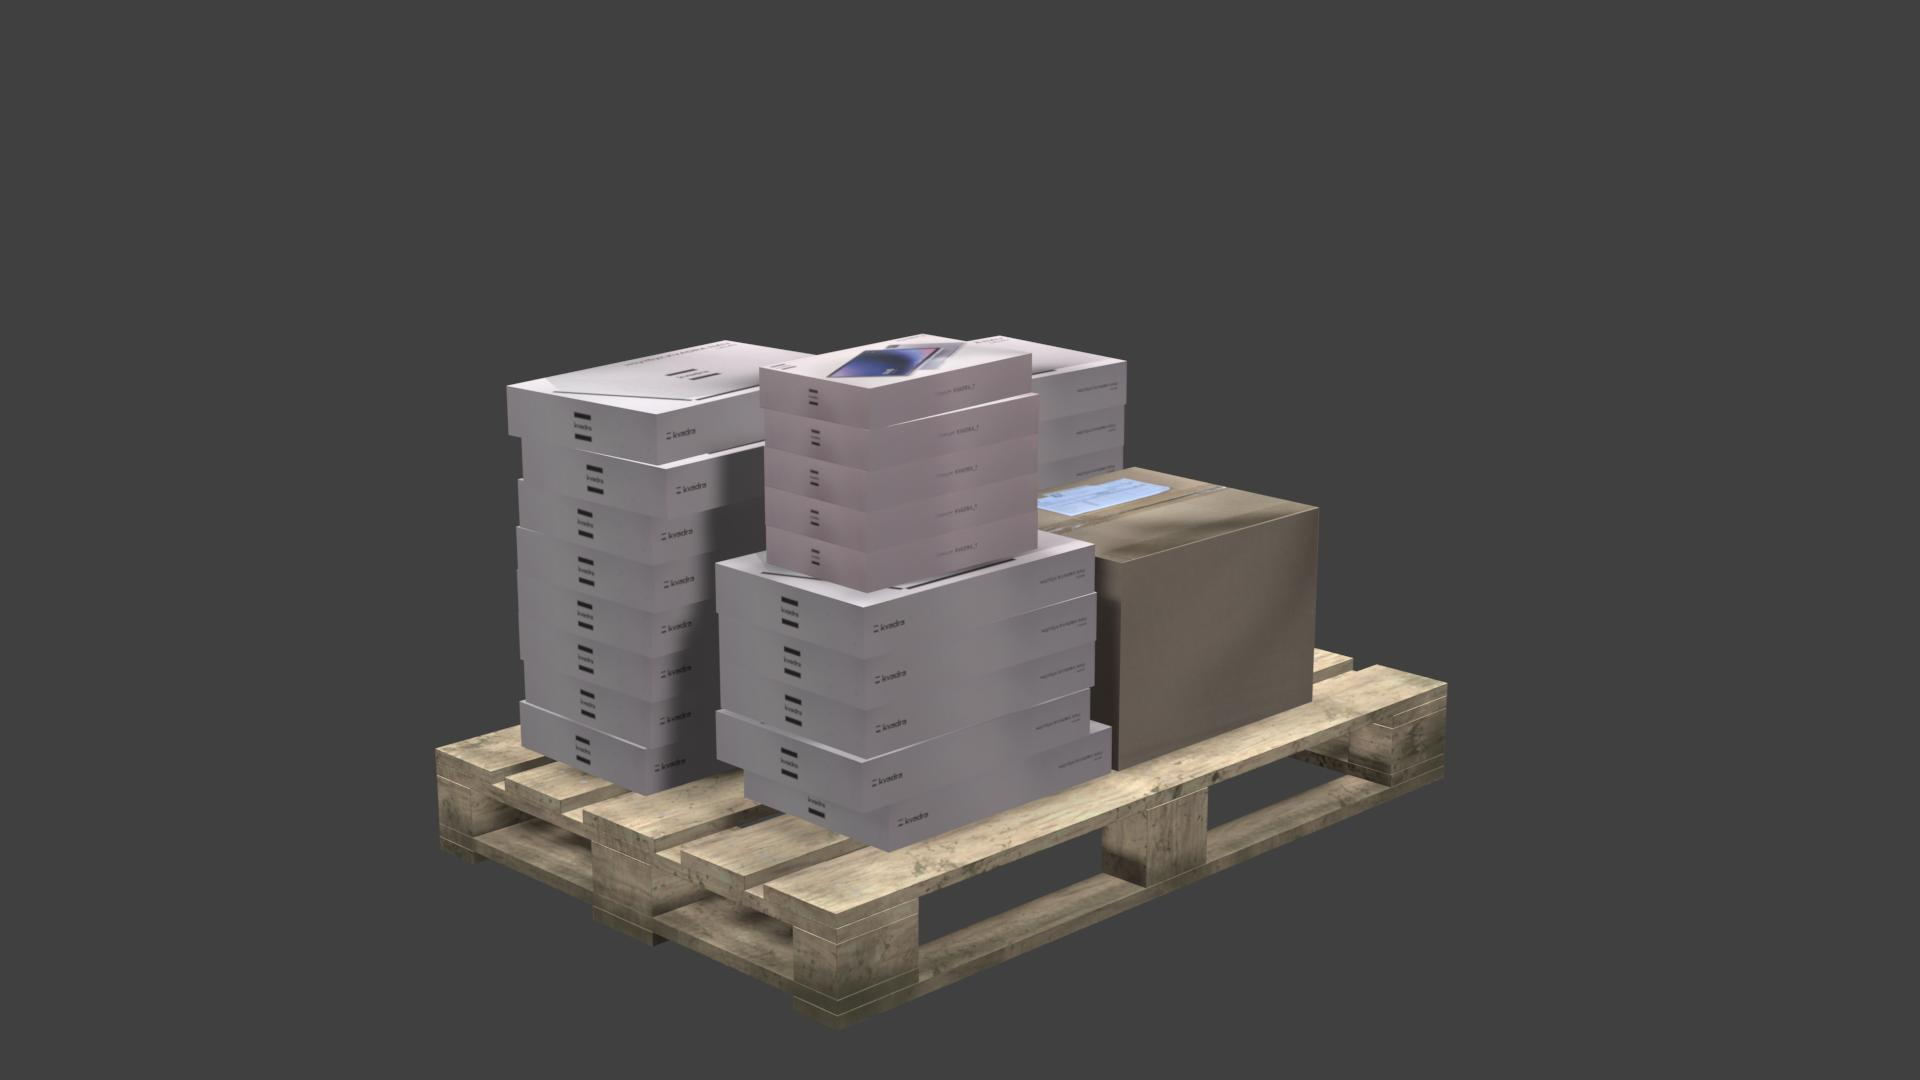group_box_left: (1091, 508, 1317, 771)
group_box_top: (1038, 467, 1319, 563)
laptop_left: (744, 727, 1112, 853), (716, 690, 1091, 814), (720, 641, 1096, 760), (716, 543, 1095, 659), (720, 595, 1097, 711), (517, 481, 765, 564), (506, 386, 764, 463), (522, 439, 762, 520), (520, 700, 717, 795), (520, 615, 719, 704), (516, 574, 719, 658), (516, 527, 715, 613), (524, 662, 717, 748), (1033, 361, 1127, 419), (1039, 405, 1124, 467), (1038, 447, 1124, 491)
laptop_top: (716, 530, 1093, 608), (508, 339, 815, 415), (968, 335, 1126, 378)
palet: (434, 647, 1448, 1033)
tablet_left: (766, 473, 1036, 553), (766, 513, 1035, 592), (766, 434, 1038, 512), (765, 394, 1039, 471), (760, 355, 1033, 430)
tablet_top: (760, 332, 1029, 389)
